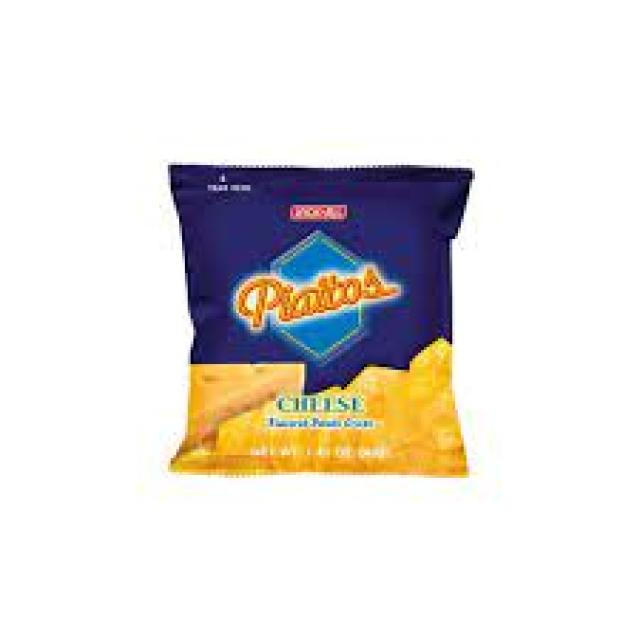junkfood wrapper: (172, 165, 471, 476)
